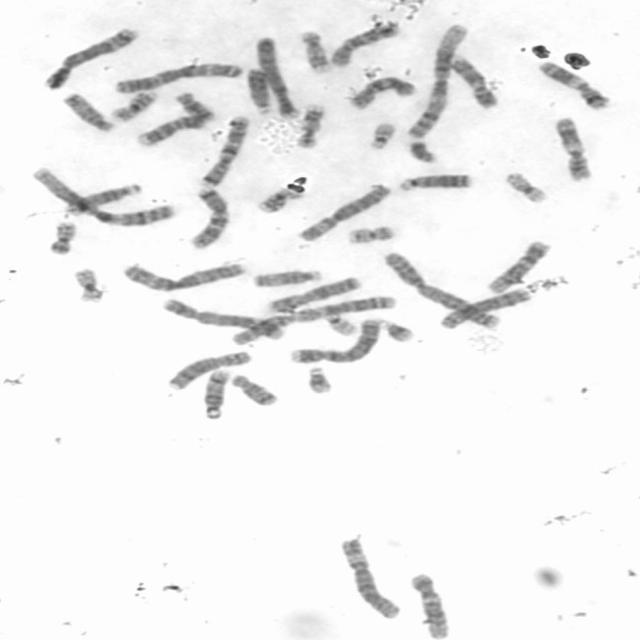A1: (30, 165, 178, 228), (405, 23, 469, 141)
A2: (380, 250, 504, 331), (230, 296, 397, 346)
A3: (113, 61, 244, 95), (122, 264, 245, 291)
B4: (290, 317, 380, 366), (254, 37, 303, 120)
B5: (41, 28, 140, 91), (161, 298, 287, 342)
C10: (329, 22, 403, 68), (348, 76, 417, 110)
C11: (539, 61, 613, 110), (551, 117, 596, 181)
C12: (485, 240, 553, 294), (408, 573, 452, 639)
C6: (297, 184, 392, 242), (338, 539, 404, 620)
C7: (198, 115, 250, 189), (187, 186, 231, 251)
C8: (437, 288, 532, 330), (167, 349, 255, 392)
C9: (446, 54, 500, 110), (135, 115, 205, 147)
D13: (396, 173, 477, 192), (245, 66, 273, 115)
D14: (64, 183, 145, 218), (201, 368, 234, 421)
D15: (60, 91, 116, 132), (251, 268, 324, 288)
E16: (111, 89, 158, 124), (255, 187, 305, 214)
E17: (294, 102, 326, 150), (299, 29, 332, 75)
E18: (230, 375, 281, 407), (176, 92, 217, 122)
F19: (503, 171, 550, 204), (72, 269, 104, 303)
F20: (48, 220, 78, 257), (345, 225, 397, 245)
G21: (377, 317, 417, 343), (306, 367, 336, 395)
G22: (368, 121, 401, 150), (324, 314, 359, 336)
X: (270, 276, 361, 312)
Y: (406, 140, 438, 165)
